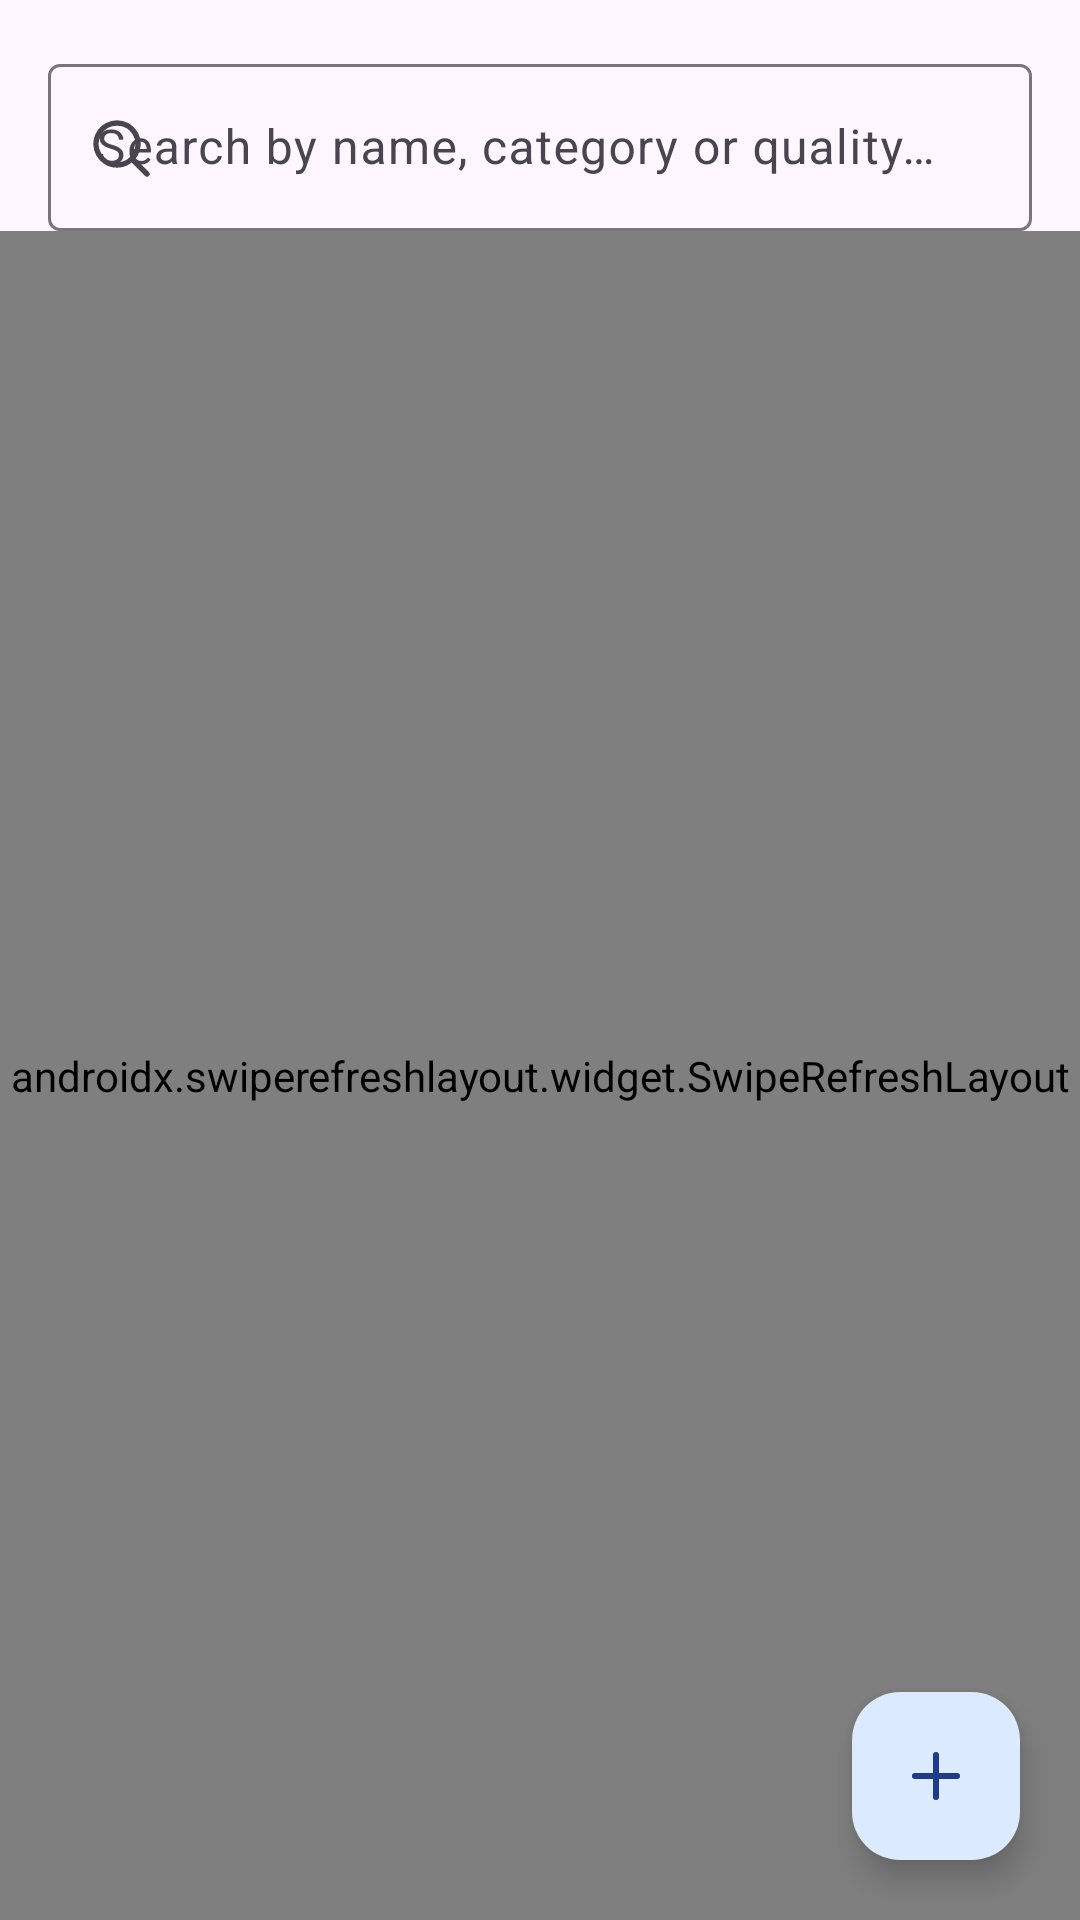

Icon bounding boxes for this 1080w x 1920h phone screenshot, format (x1, y1, x2, y2):
Add Product: (852, 1692, 1020, 1860)
